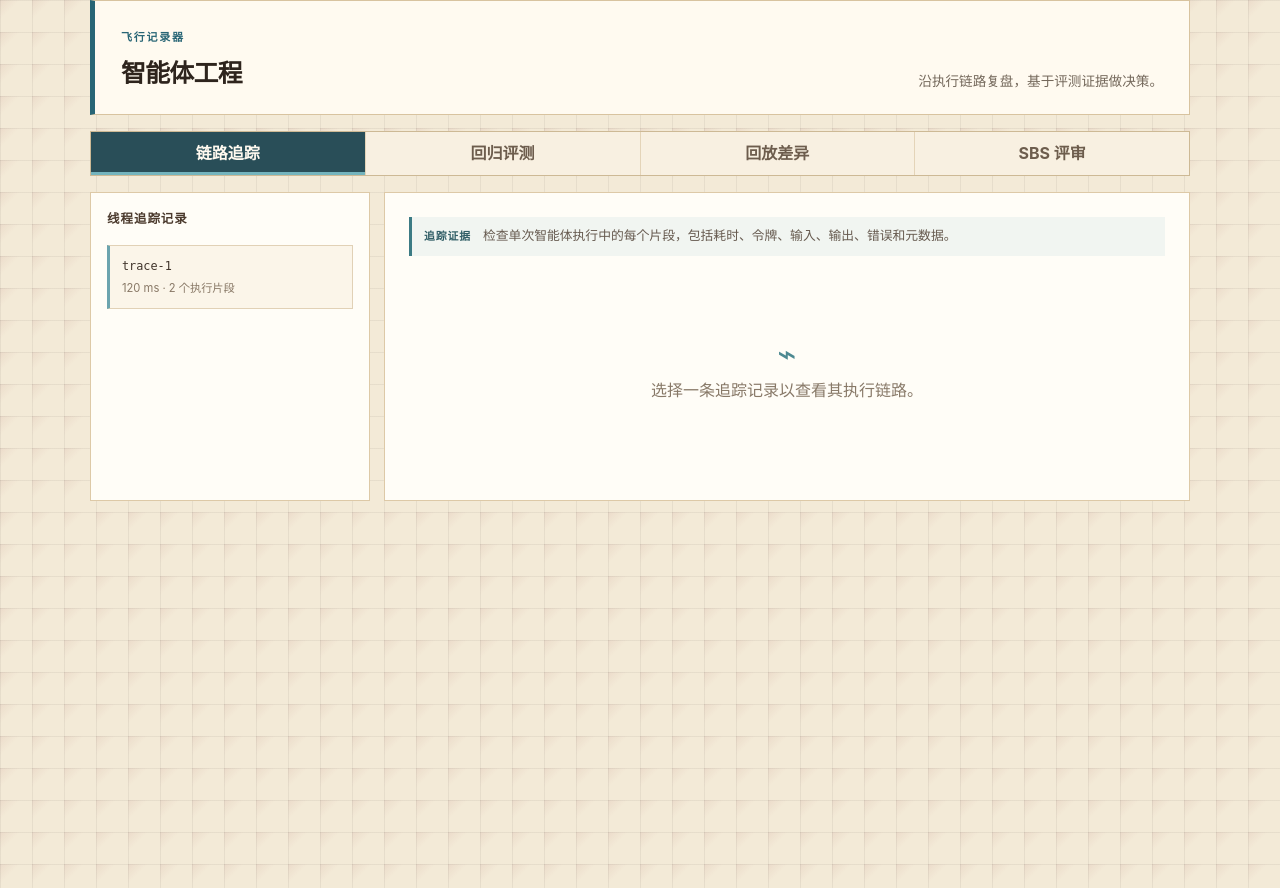
EngineeringPanel › deletes the selected SBS queue record after confirmation
The width and height of the screenshot is (1280, 888).
Click the tab "SBS 评审": (1052, 154) [915,132,1189,175]
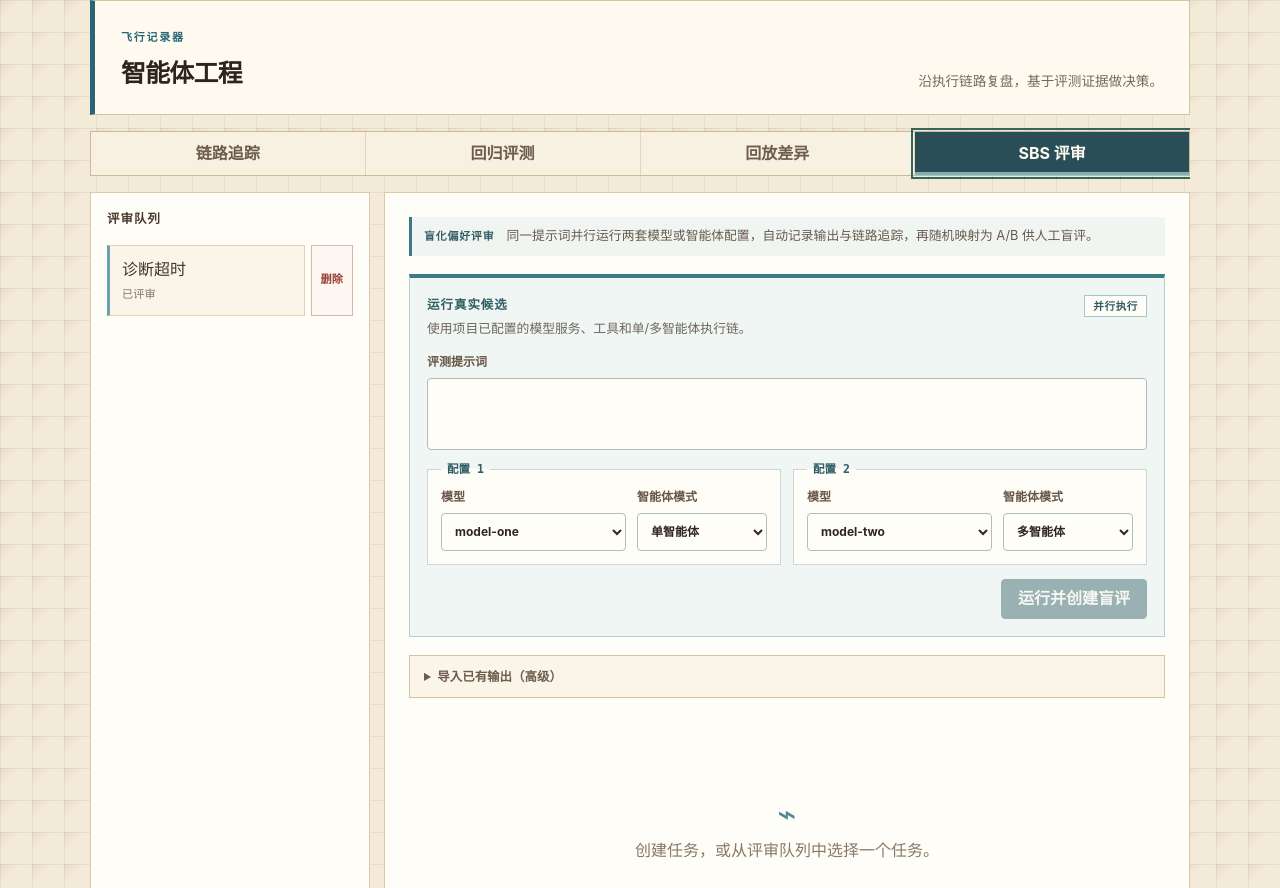
Click the button named "诊断超时已评审": (206, 280) [107,245,305,316]
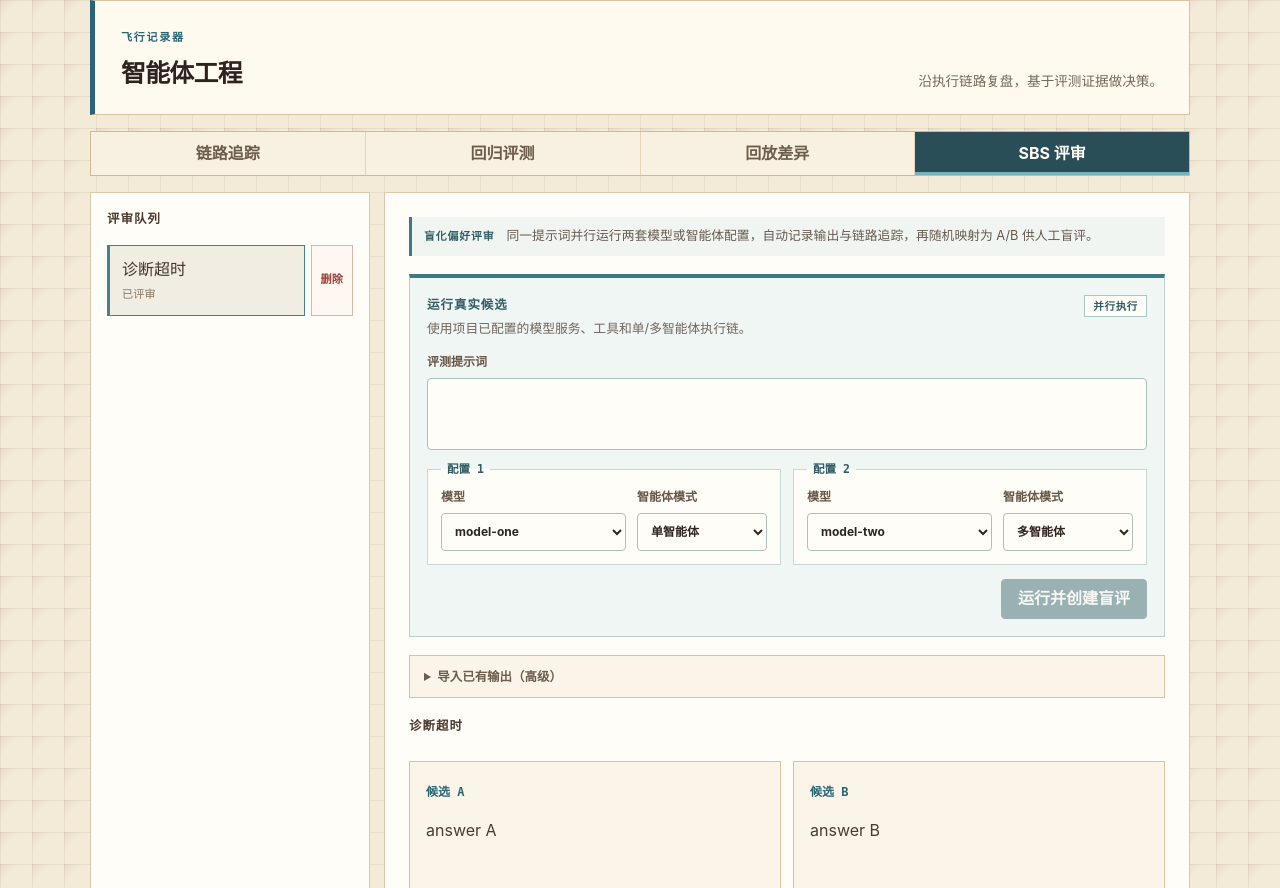
Click the button with aria-label "删除评审记录：诊断超时": (332, 280) [311,245,353,316]
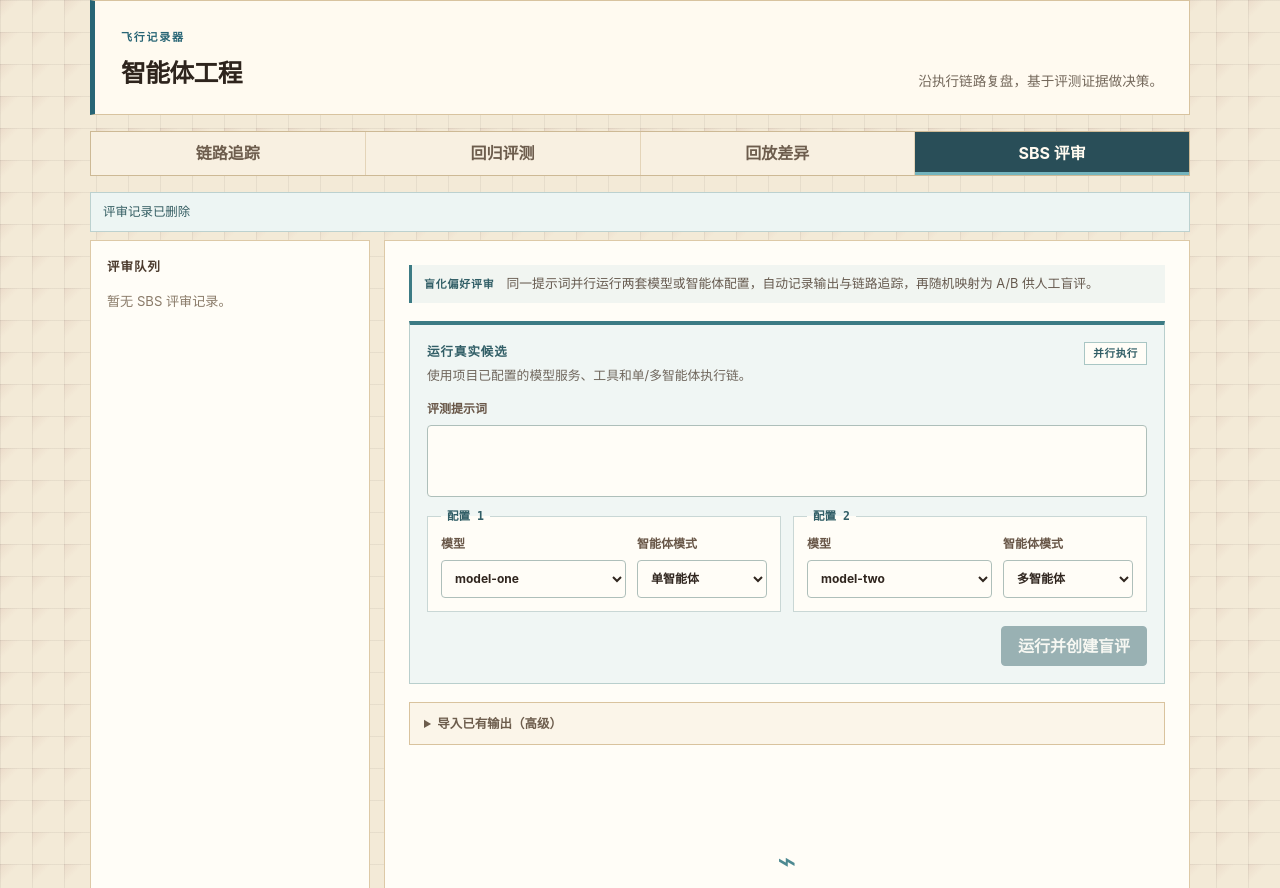
Expected: the text "评审记录已删除" is shown, [90,192,1190,232]
